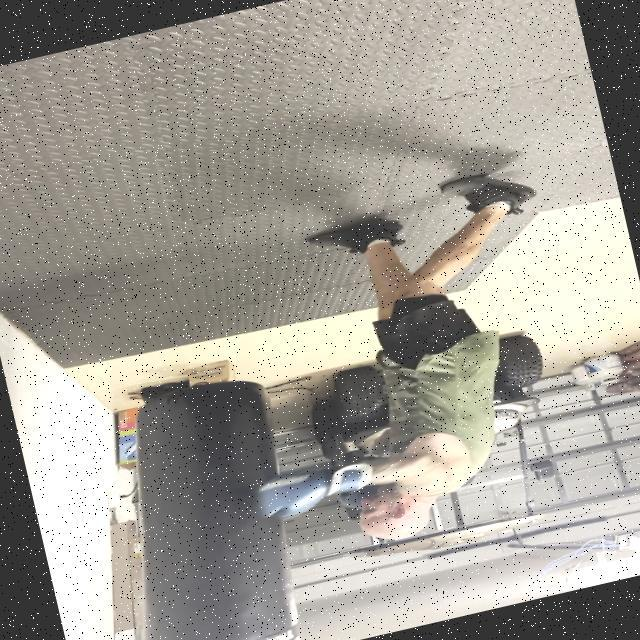punch: (215, 401, 539, 587)
